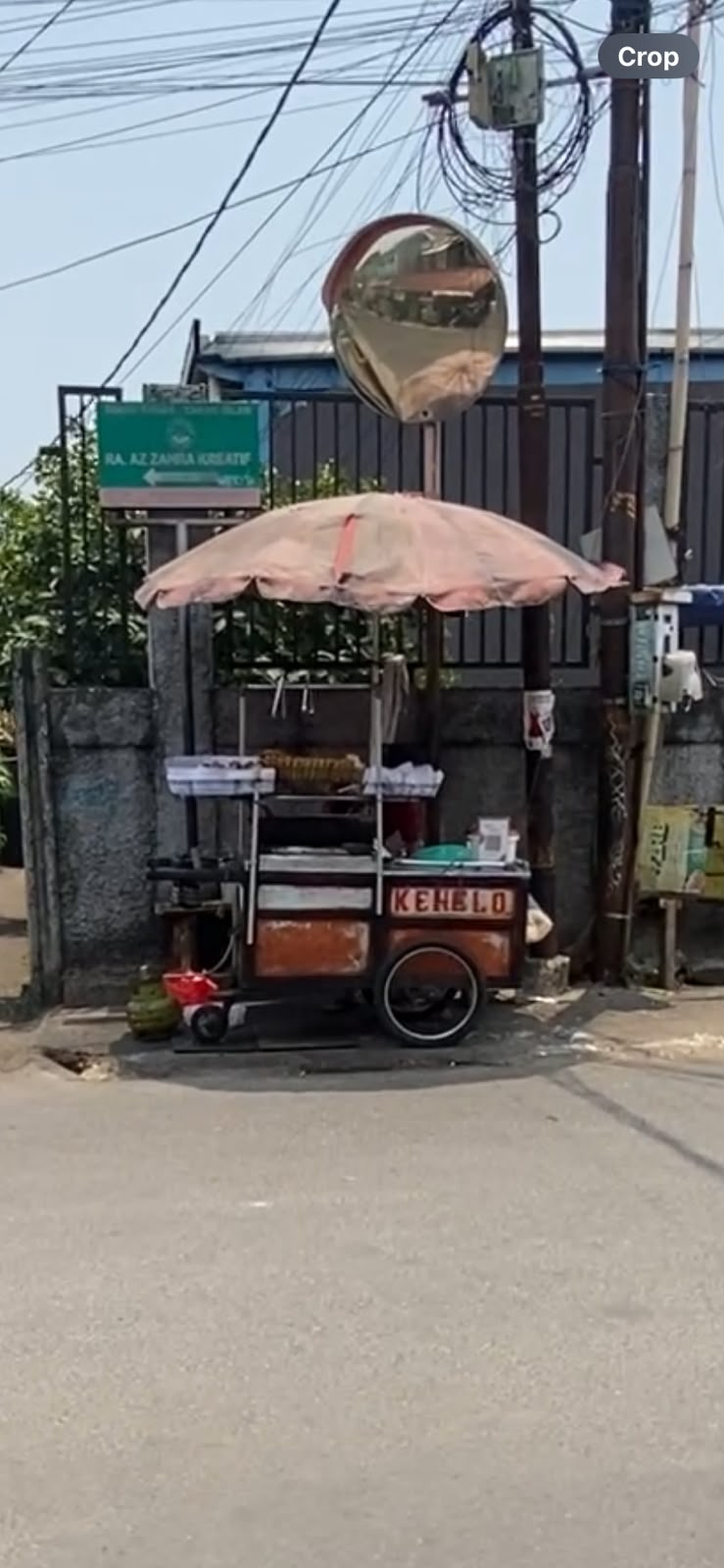gerobak: (137, 491, 622, 1046)
